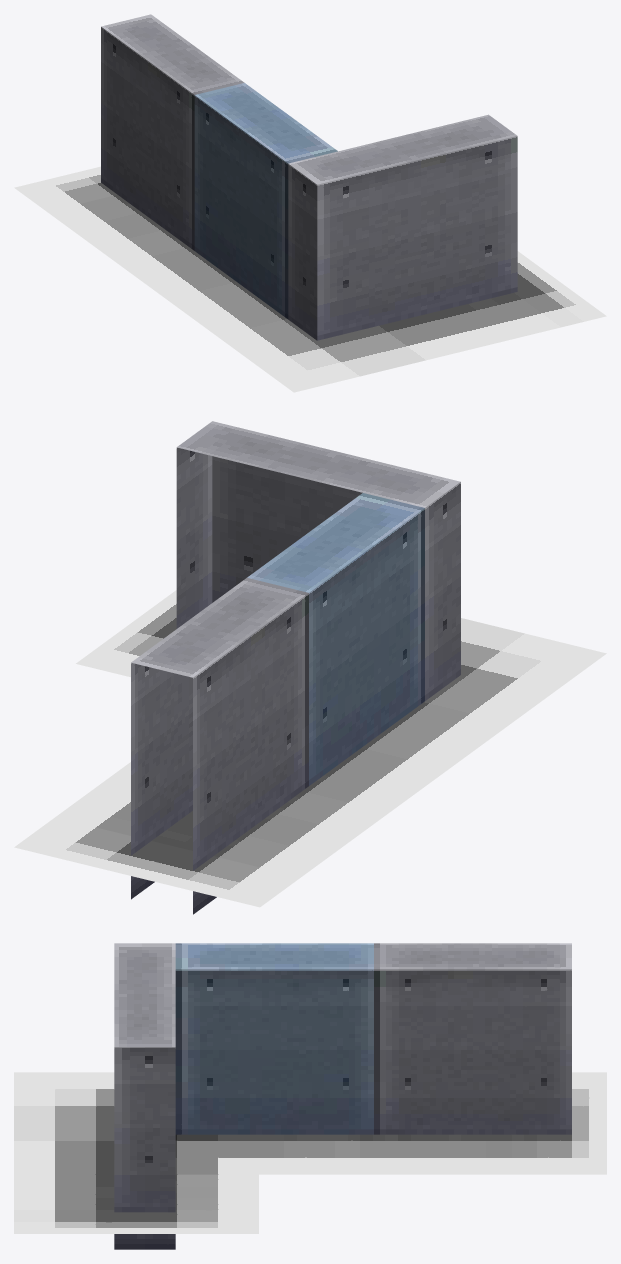
File: int_fence_17.dae
3 views of the same model, one above another, from view 1: azimuth 30°, elevation 25°; view 2: azimuth 150°, elevation 25°; view 3: azimuth 270°, elevation 25° (orthographic). The views are drawn at different scales.
Parts seen in each view (by area): view 1: int_fence_17; view 2: int_fence_17; view 3: int_fence_17.
Part boxes in pixels (left/top/right/bottom): int_fence_17: left=14, top=14, right=606, bottom=392; int_fence_17: left=14, top=421, right=606, bottom=914; int_fence_17: left=14, top=943, right=606, bottom=1249.
Size of the model in its own units: 43.91 by 25.63 by 68.
2 materials, 2 textured.
